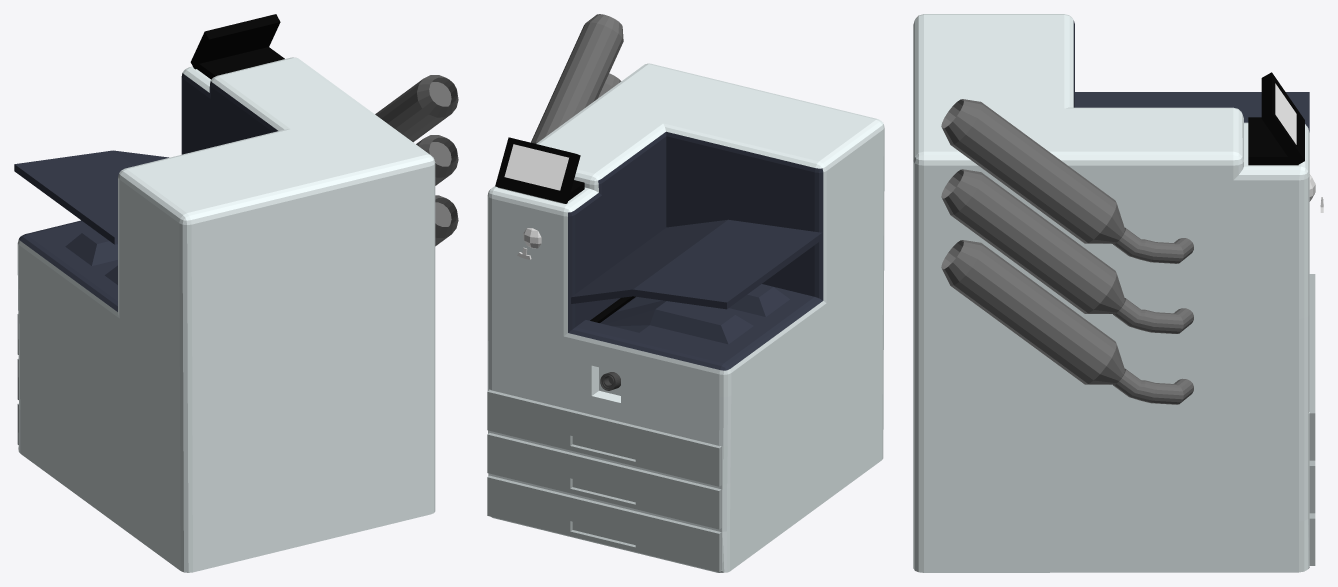
The model's file is office_printer.fbx.
3 views of the same model, side by side, from view 1: azimuth 30°, elevation 25°; view 2: azimuth 150°, elevation 25°; view 3: azimuth 270°, elevation 25° (orthographic). The views are drawn at different scales.
Parts seen in each view (by area): view 1: Printer-Body, PaperTray, ExhaustPipe-1, Printer-Screen, ExhaustPipe-2, ExhaustPipe-3; view 2: Printer-Body, PaperTray, PipeTray-1, PipeTray-2, PipeTray-3, ExhaustPipe-1, Printer-Screen; view 3: Printer-Body, ExhaustPipe-3, ExhaustPipe-1, ExhaustPipe-2, PaperTray, Printer-Screen, PipeTray-1.
Part boxes in pixels (box(x1,y1,x2,y2)): Printer-Body: box(17, 47, 435, 572); PaperTray: box(14, 150, 168, 244); ExhaustPipe-1: box(375, 75, 458, 142); Printer-Screen: box(190, 14, 280, 69); ExhaustPipe-2: box(416, 135, 458, 185); ExhaustPipe-3: box(435, 195, 458, 246); Printer-Body: box(487, 63, 884, 572); PaperTray: box(571, 219, 822, 309); PipeTray-1: box(487, 390, 721, 486); PipeTray-2: box(487, 433, 721, 529); PipeTray-3: box(487, 475, 721, 572); ExhaustPipe-1: box(531, 14, 623, 143); Printer-Screen: box(495, 137, 580, 203); Printer-Body: box(913, 14, 1309, 572); ExhaustPipe-3: box(941, 240, 1193, 404); ExhaustPipe-1: box(941, 99, 1193, 263); ExhaustPipe-2: box(941, 169, 1193, 333); PaperTray: box(1075, 92, 1309, 132); Printer-Screen: box(1261, 72, 1304, 165); PipeTray-1: box(1309, 274, 1315, 460).
Size of the model in its own units: 74.77 by 99.9 by 76.69.
